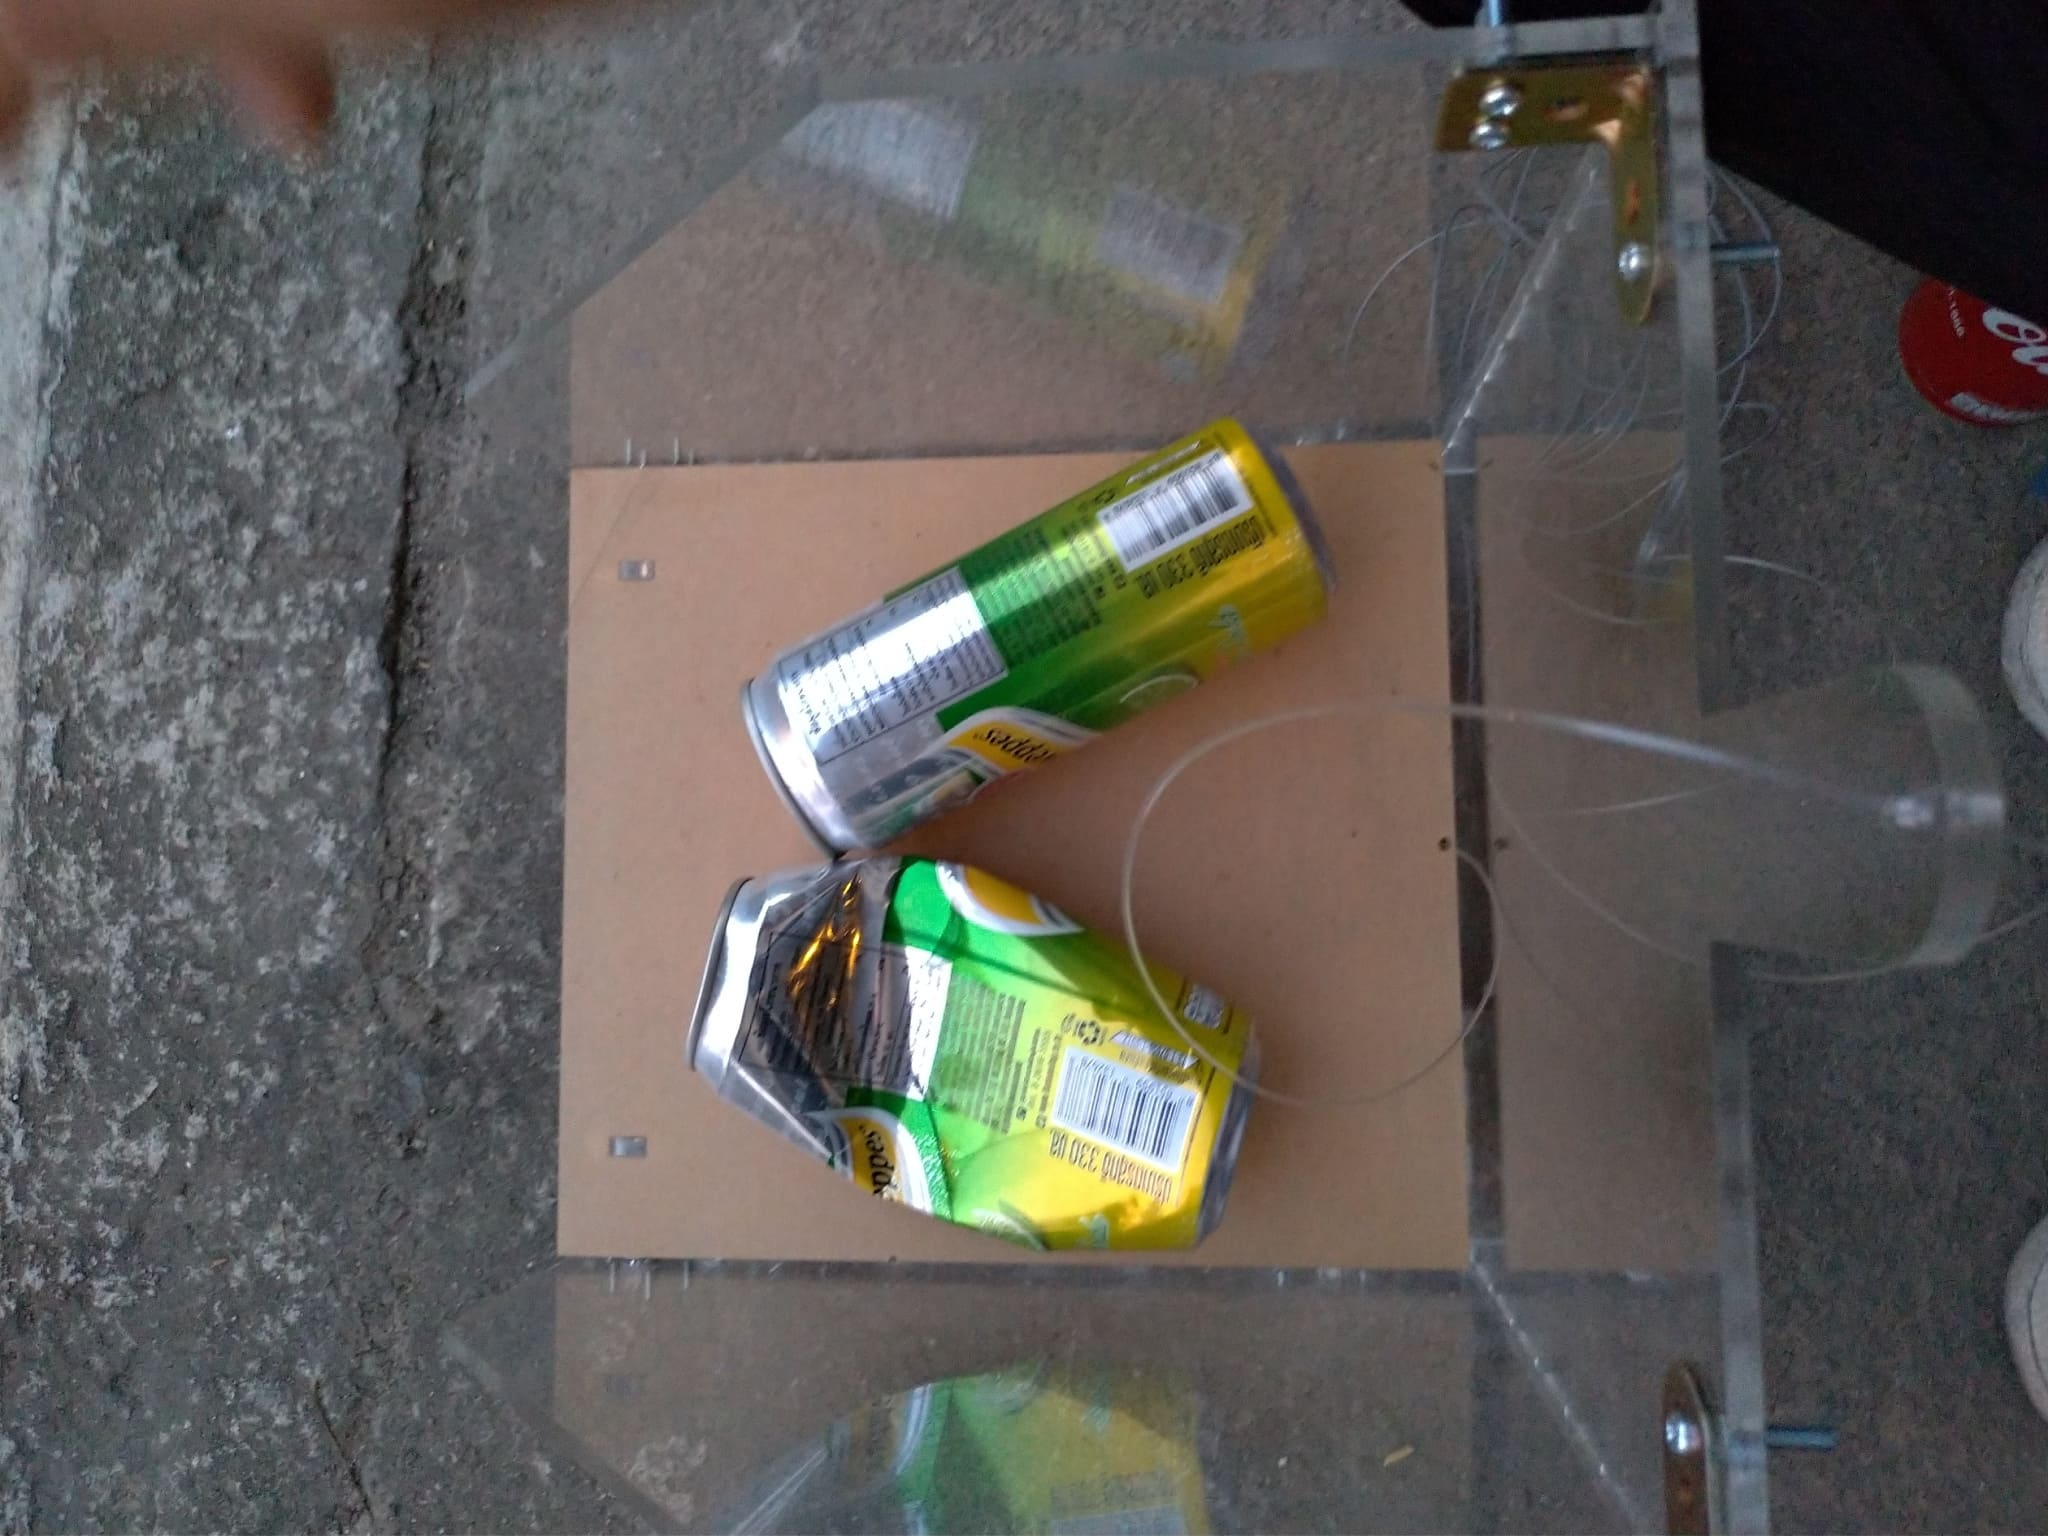AlCan: (742, 416, 1334, 850), (681, 857, 1259, 1254)
